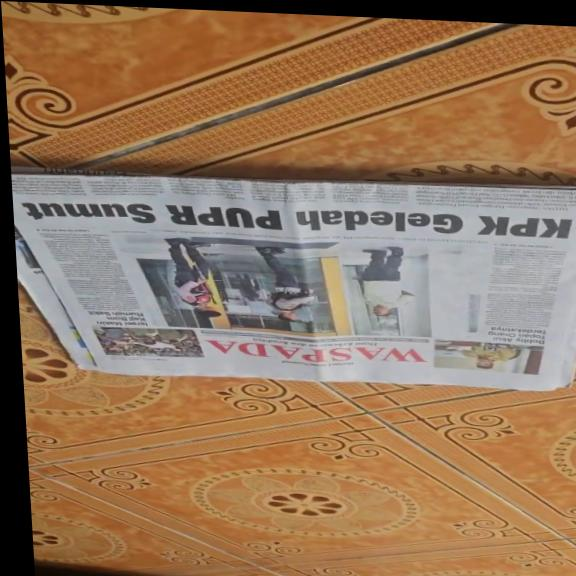Kertas: (14, 166, 576, 395)
